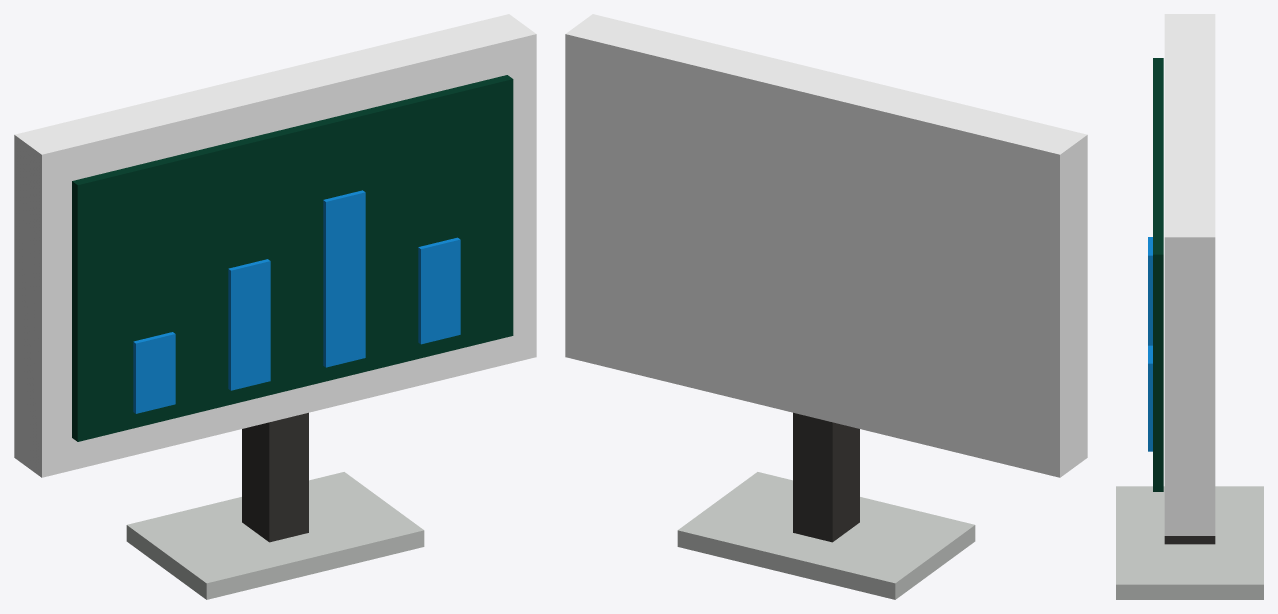
Rendered from D1_siem.glb.
3 renders of one model, left to right at view 1: azimuth 30°, elevation 25°; view 2: azimuth 150°, elevation 25°; view 3: azimuth 270°, elevation 25°, orthographic. The views are drawn at different scales.
Parts seen in each view (by area): view 1: screen_darkgreen, monitor_white, telemetry-bar_blue, foot_stone, stand_ink; view 2: monitor_white, foot_stone, stand_ink; view 3: monitor_white, foot_stone, screen_darkgreen, telemetry-bar_blue, stand_ink.
Boxes of the visible parts, box(x1,y1,x2,y2) form: screen_darkgreen: box(72, 75, 513, 441); monitor_white: box(14, 14, 536, 477); telemetry-bar_blue: box(133, 190, 460, 413); foot_stone: box(126, 472, 424, 599); stand_ink: box(242, 412, 308, 542); monitor_white: box(565, 14, 1087, 477); foot_stone: box(677, 472, 975, 599); stand_ink: box(793, 412, 859, 542); monitor_white: box(1164, 14, 1215, 535); foot_stone: box(1116, 486, 1263, 599); screen_darkgreen: box(1153, 58, 1163, 491); telemetry-bar_blue: box(1148, 237, 1152, 451); stand_ink: box(1164, 536, 1215, 544).
Bounding box in the file's own units: 1.25 × 1.11 × 0.35.
